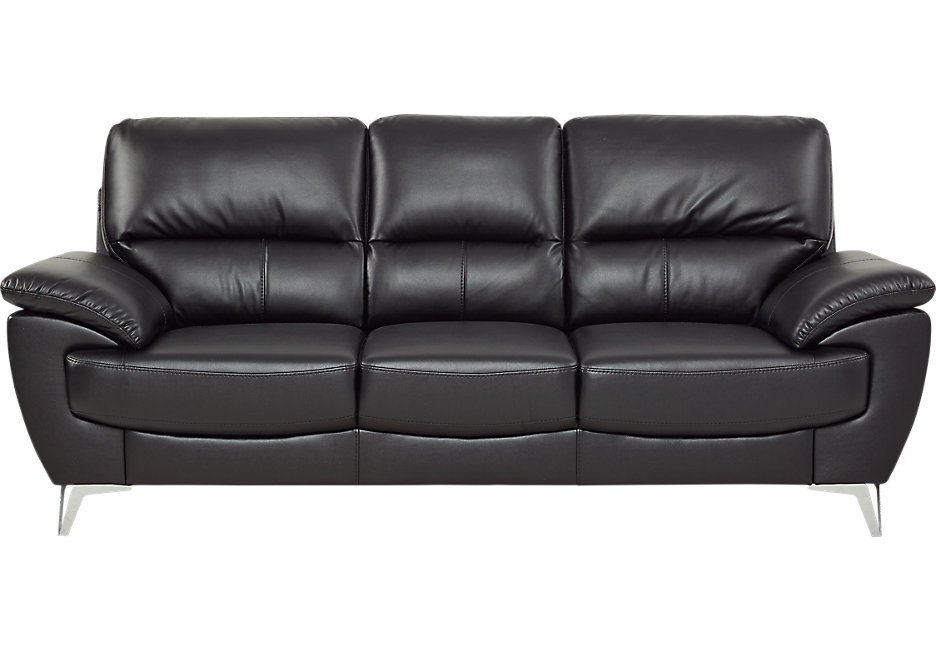chairs: (3, 65, 922, 561)
